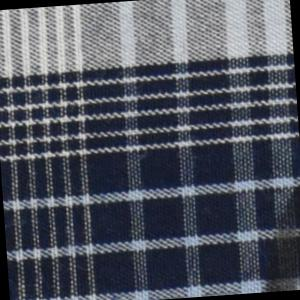Stain: (257, 183, 300, 293)
